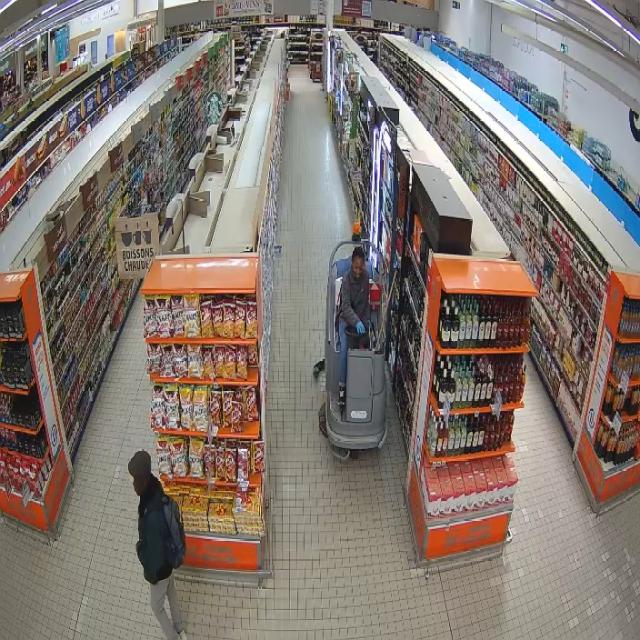bags: (163, 496, 185, 568)
hands: (356, 322, 365, 334)
person: (129, 451, 187, 639), (340, 246, 369, 404)
